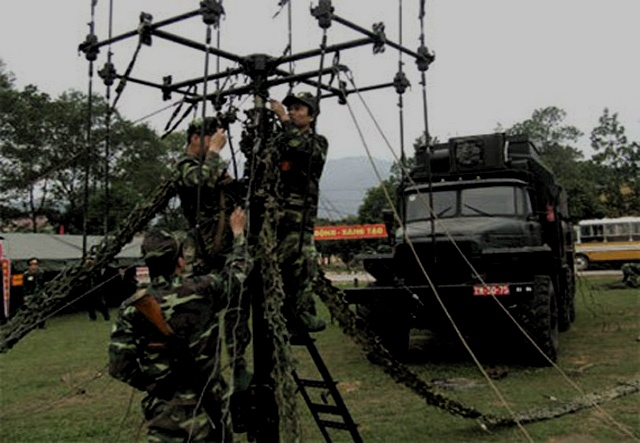plate: (472, 284, 512, 299)
